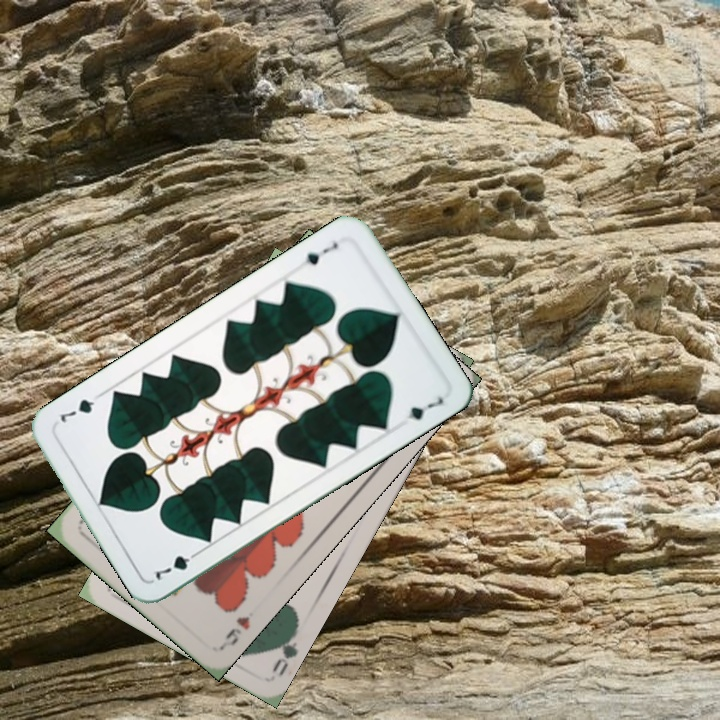G7: (147, 546, 204, 583), (294, 238, 341, 269)
GO: (268, 622, 301, 678)
H9: (217, 612, 253, 650)
